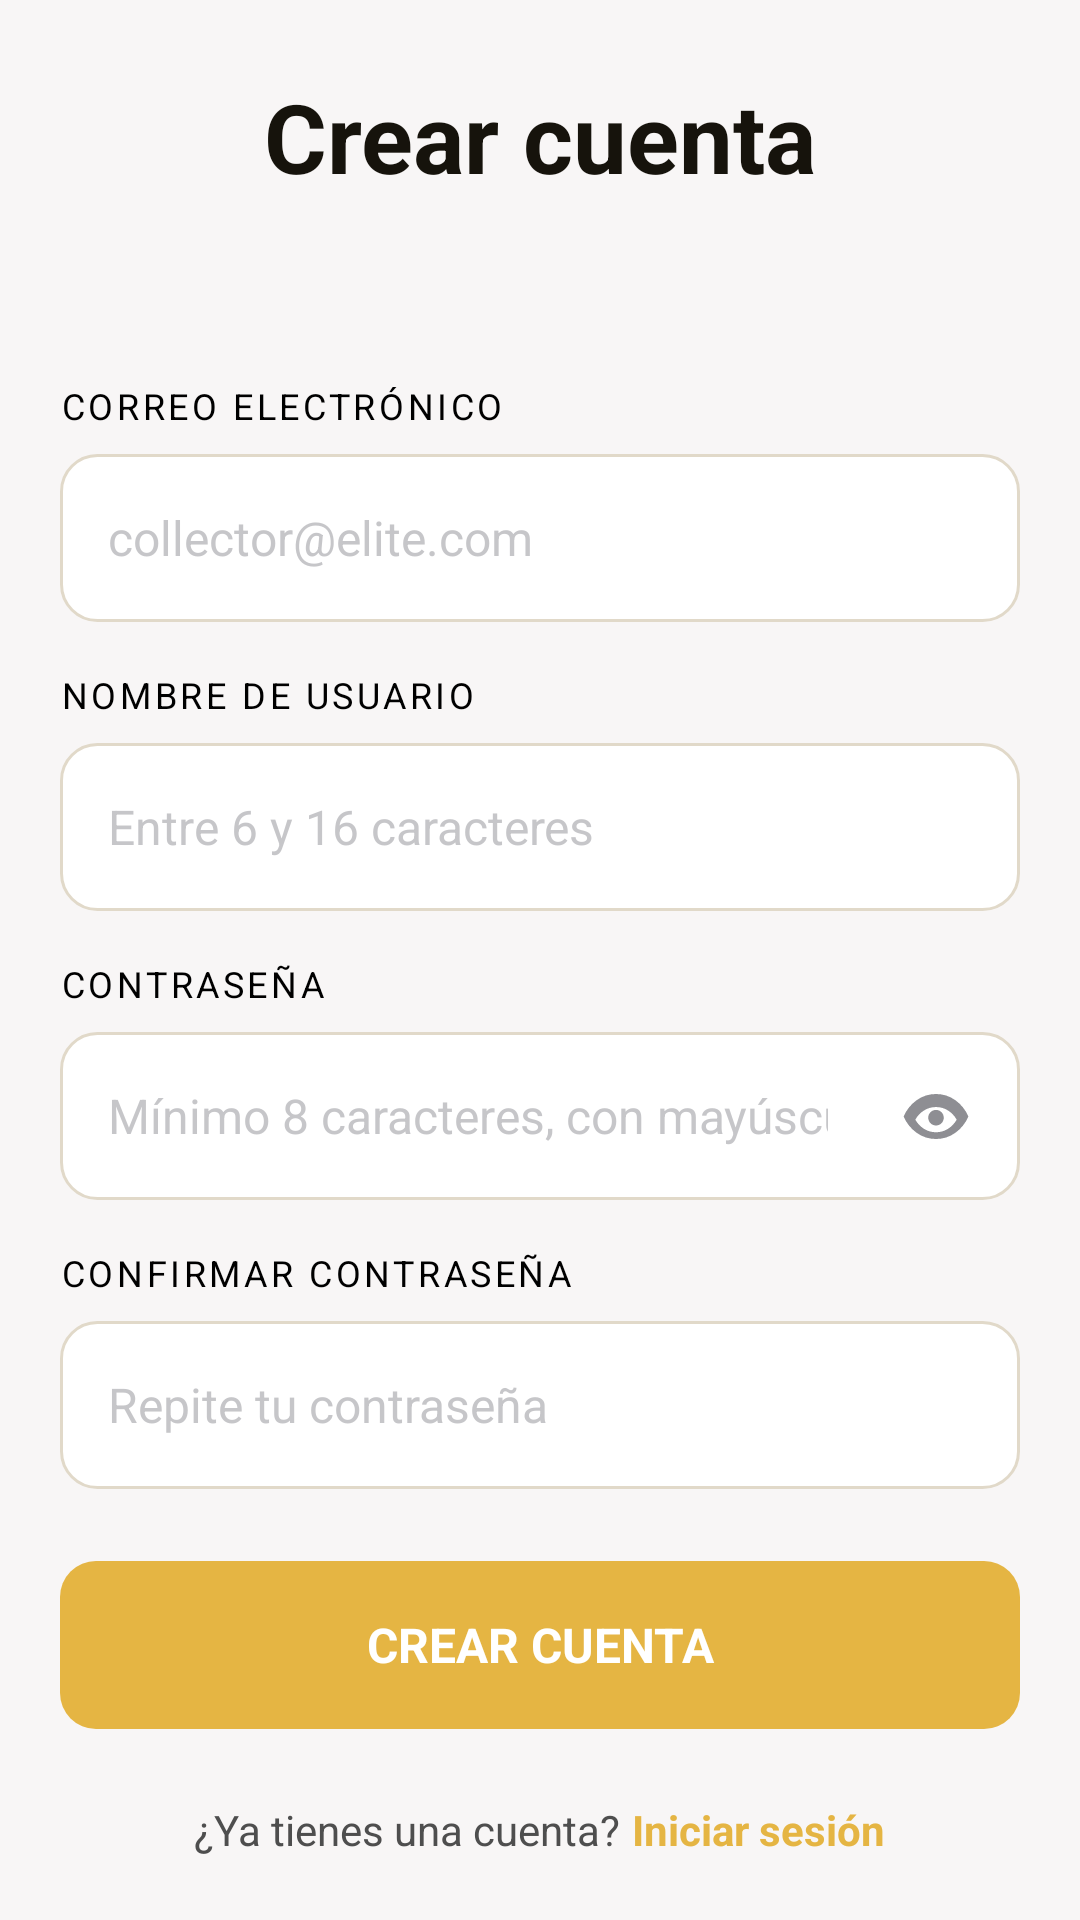

Locate icon controls on the screen. Image size 1080w x 1920h, boxes as {"x1": x1, "y1": y1, "x2": x2, "y2": y2}.
Mostrar u ocultar contraseña: {"x1": 903, "y1": 1094, "x2": 969, "y2": 1139}
